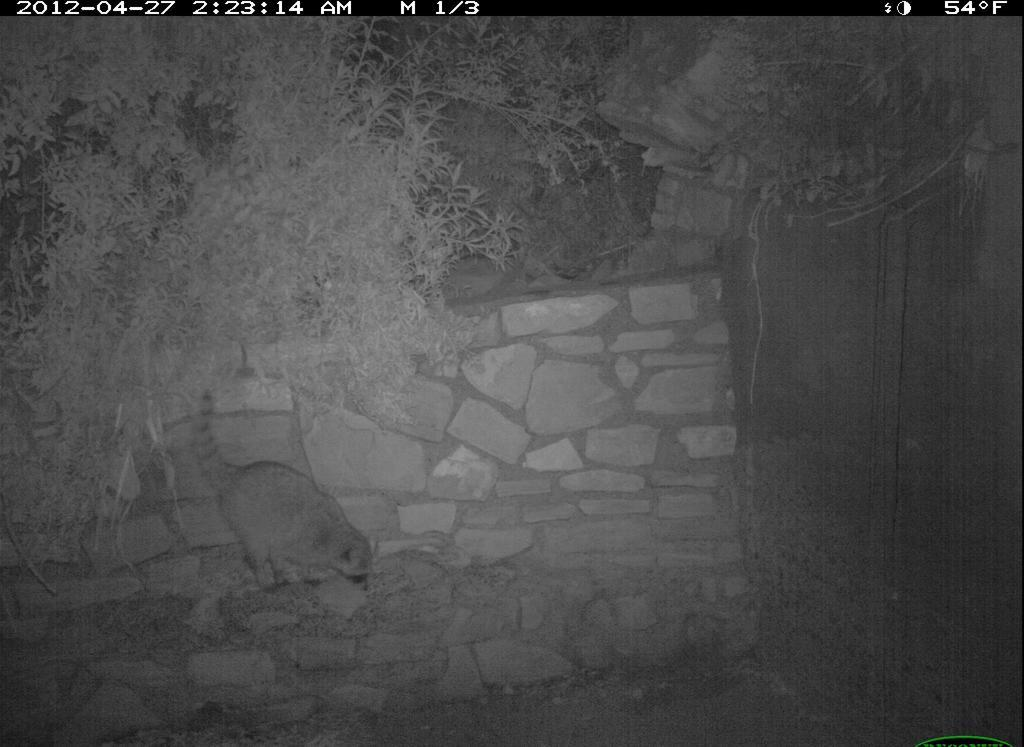raccoon: (178, 386, 397, 603)
